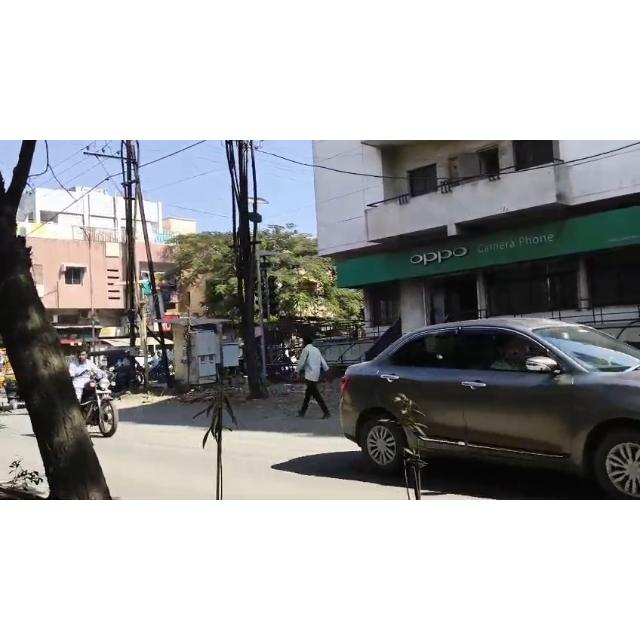car: (336, 305, 640, 499)
